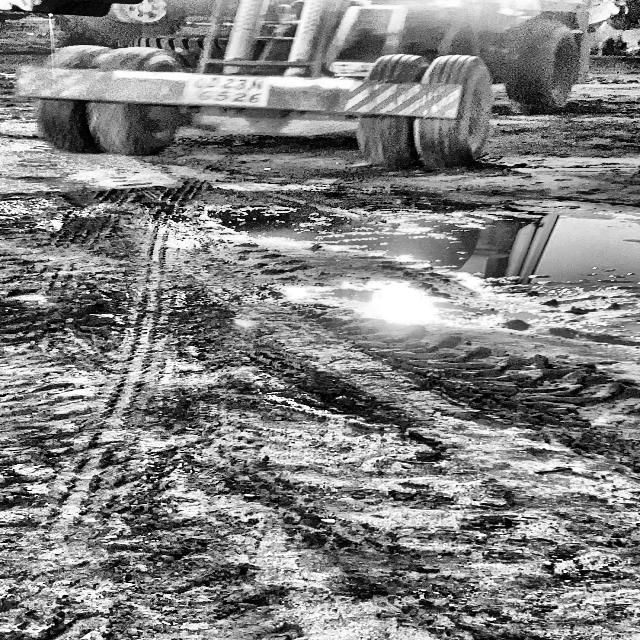dump_truck: (0, 0, 578, 180)
